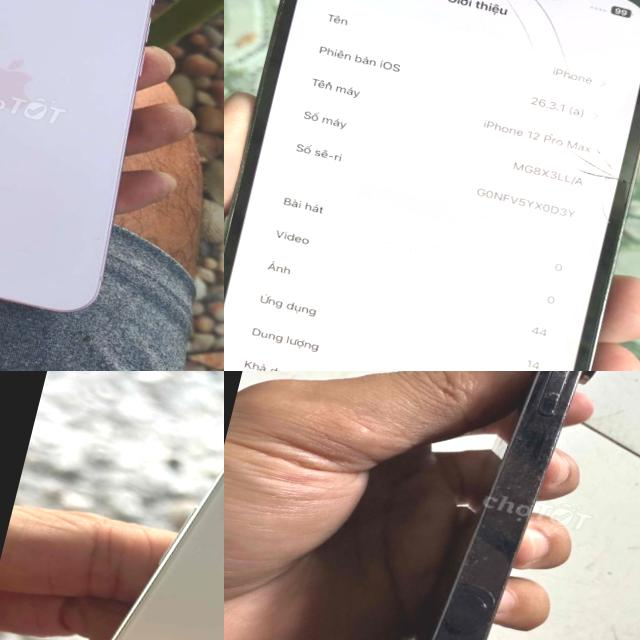gen_12_13: (224, 0, 640, 371)
gen_14: (360, 371, 640, 640)
gen_15: (0, 0, 199, 327), (0, 371, 224, 640)
